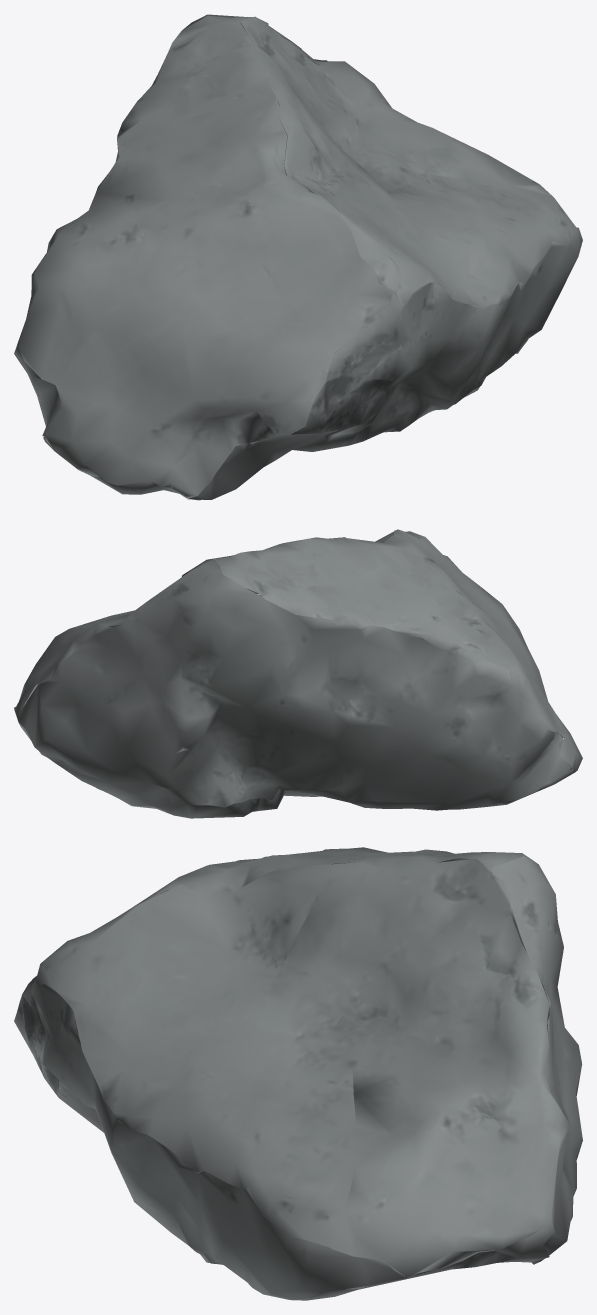
The model's file is moon-rock.glb.
The picture shows the model from 3 angles, top to bottom: view 1: azimuth 30°, elevation 25°; view 2: azimuth 150°, elevation 25°; view 3: azimuth 270°, elevation 25°; orthographic projection. The views are drawn at different scales.
Visible parts, largest first — view 1: moon-rock; view 2: moon-rock; view 3: moon-rock.
Part boxes in pixels (left/top/right/bottom): moon-rock: left=14, top=14, right=582, bottom=500; moon-rock: left=14, top=529, right=582, bottom=818; moon-rock: left=14, top=847, right=582, bottom=1300.
Bounding box in the file's own units: 2.51 × 1.3 × 1.92.
Materials: 1 (1 with a texture image).
